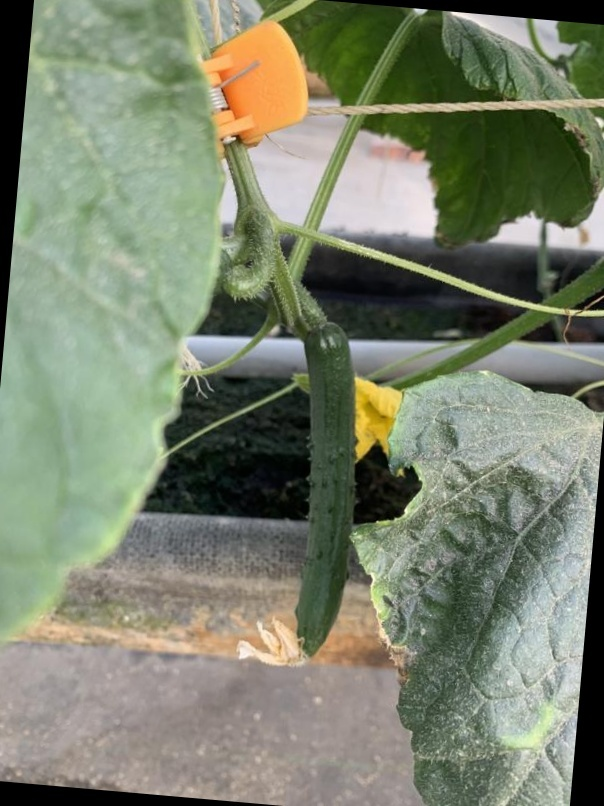mature: (286, 318, 366, 666)
